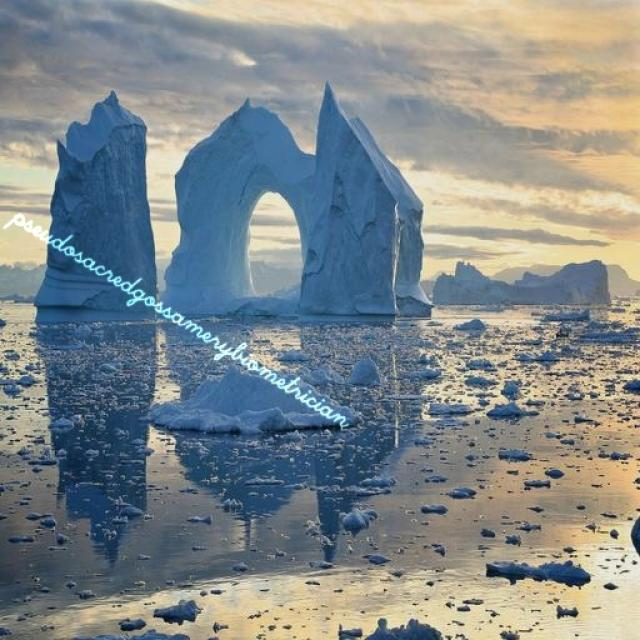watermark: (5, 199, 365, 433)
